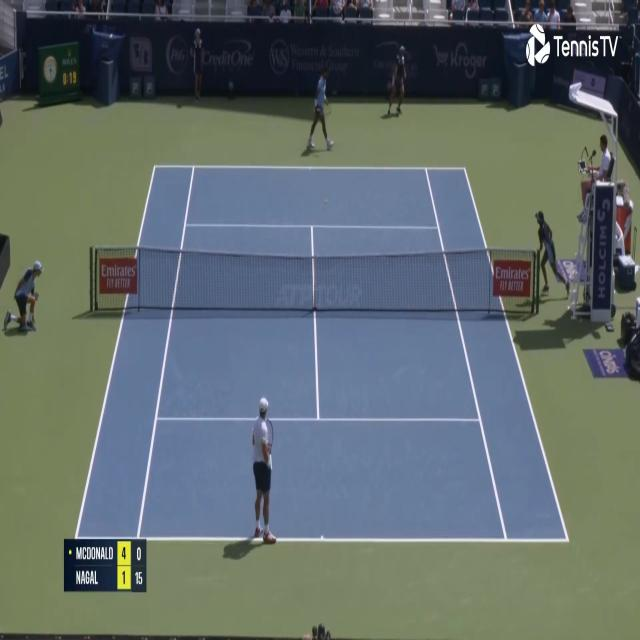tennis-player: (248, 396, 277, 552), (306, 62, 336, 154)
